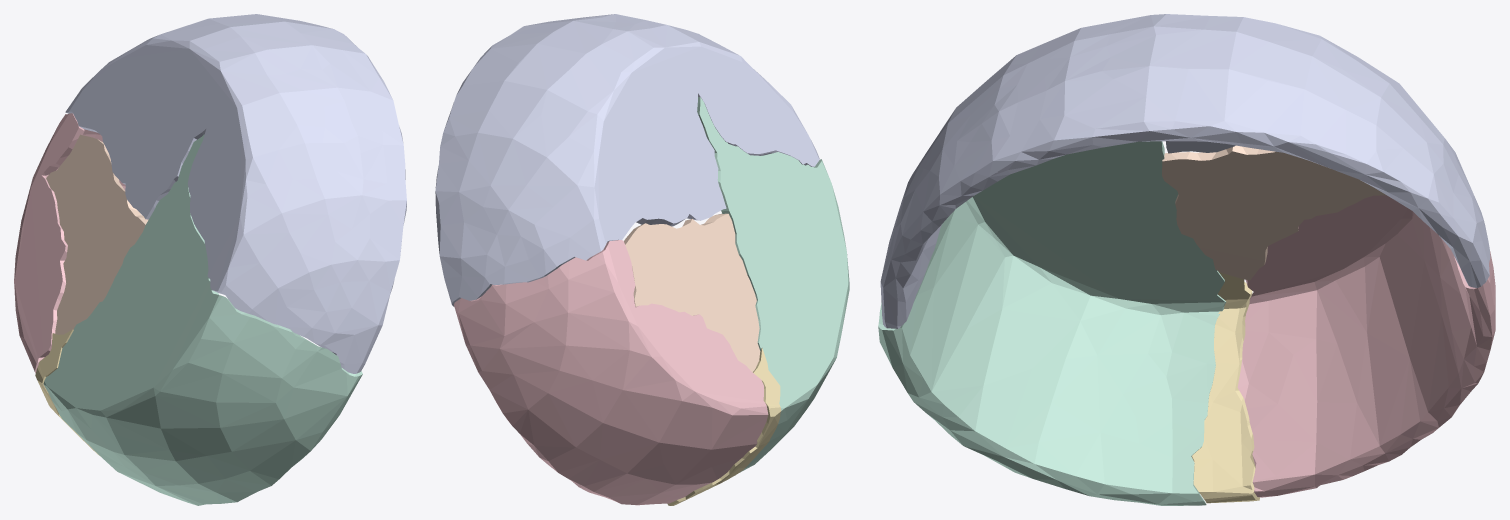
The model's file is view_assembly_9_colored.glb.
3 renders of one model, left to right at view 1: azimuth 30°, elevation 25°; view 2: azimuth 150°, elevation 25°; view 3: azimuth 270°, elevation 25°, orthographic. The views are drawn at different scales.
Parts seen in each view (by area): view 1: world; view 2: world; view 3: world.
Boxes of the visible parts, left/top/right/bottom form: world: left=14, top=14, right=406, bottom=505; world: left=435, top=14, right=849, bottom=505; world: left=878, top=14, right=1495, bottom=505.
Bounding box in the file's own units: 0.6751 × 0.9239 × 0.9727.
